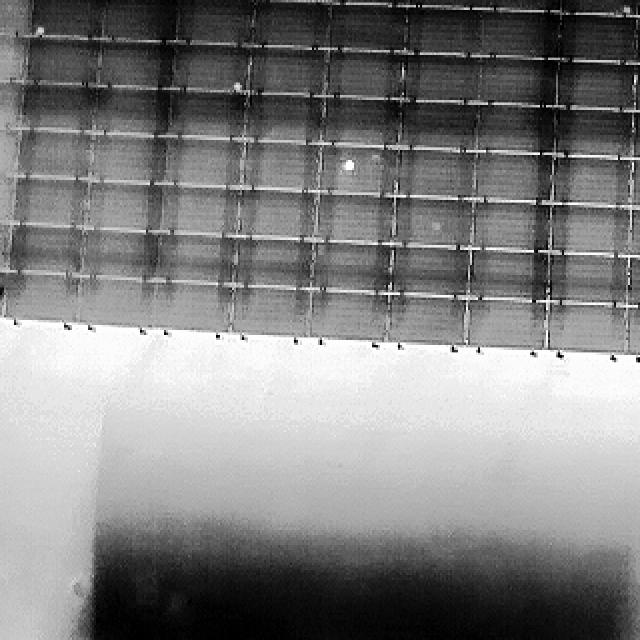Hotspots: (339, 147, 362, 180), (620, 1, 636, 17), (229, 77, 245, 92), (33, 21, 46, 38)
PV-modules: (232, 283, 314, 337), (541, 304, 625, 356), (542, 254, 626, 306), (154, 280, 237, 332), (311, 288, 392, 341), (157, 234, 241, 285), (550, 203, 632, 255), (310, 244, 391, 296), (0, 268, 78, 322), (313, 147, 397, 197), (464, 300, 546, 351), (232, 240, 312, 292), (157, 186, 240, 236), (392, 244, 470, 297), (388, 297, 467, 349), (312, 195, 394, 245), (476, 106, 558, 156), (75, 273, 152, 326), (246, 47, 326, 98), (11, 178, 89, 230), (481, 56, 562, 106), (396, 149, 475, 200), (394, 195, 473, 246), (244, 96, 323, 147), (472, 200, 554, 249), (93, 130, 170, 182), (471, 248, 548, 300), (240, 141, 320, 191), (552, 158, 632, 208), (396, 103, 476, 153), (235, 190, 315, 240), (553, 108, 633, 158), (6, 229, 84, 280), (248, 0, 329, 49), (78, 228, 154, 280), (21, 39, 100, 89), (93, 84, 172, 134), (321, 100, 400, 150), (17, 130, 94, 181), (559, 18, 639, 67), (556, 61, 636, 110), (21, 82, 98, 132), (168, 136, 246, 185), (324, 52, 402, 101), (476, 157, 554, 206), (484, 14, 563, 62), (328, 3, 405, 52), (400, 56, 480, 103), (171, 92, 248, 140), (408, 8, 483, 57), (87, 182, 160, 232), (175, 45, 252, 91), (101, 42, 178, 87), (176, 0, 252, 45), (26, 0, 102, 38), (104, 0, 180, 38), (560, 0, 638, 18), (0, 0, 30, 38), (0, 34, 23, 83), (0, 78, 20, 132), (622, 305, 640, 357), (0, 126, 18, 178), (488, 0, 562, 12), (326, 0, 406, 8), (628, 258, 640, 310), (628, 205, 640, 257), (406, 0, 484, 8), (630, 163, 640, 215), (250, 0, 332, 5), (632, 112, 640, 162), (634, 65, 640, 113), (636, 20, 640, 70), (636, 0, 640, 20)
